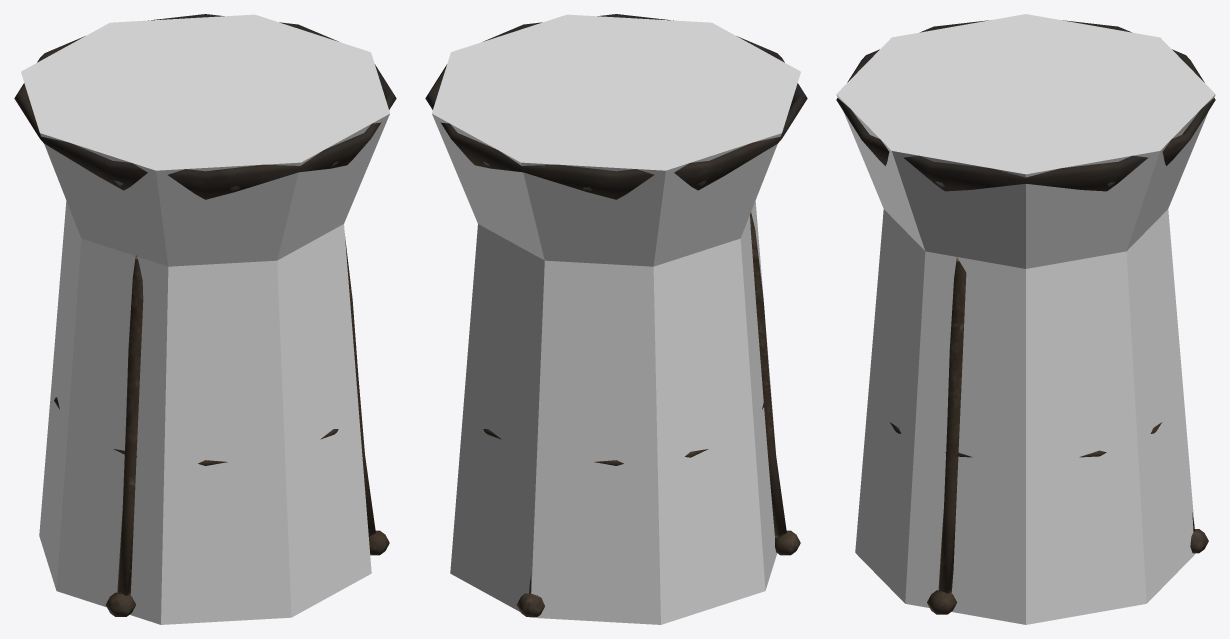
File: brazier_tripod.low.webp.glb
3 renders of one model, left to right at view 1: azimuth 30°, elevation 25°; view 2: azimuth 150°, elevation 25°; view 3: azimuth 270°, elevation 25°, orthographic.
Parts seen in each view (by area): view 1: COL, LOD1_iron; view 2: COL, LOD1_iron; view 3: COL, LOD1_iron.
Part boxes in pixels (box(x1,y1,x2,y2)): COL: box(21, 14, 389, 624); LOD1_iron: box(14, 14, 396, 616); COL: box(432, 14, 800, 624); LOD1_iron: box(425, 14, 807, 616); COL: box(836, 14, 1215, 624); LOD1_iron: box(836, 20, 1215, 614).
Size of the model in its own units: 0.9 by 1.2 by 0.9.
2 materials, 1 textured.
